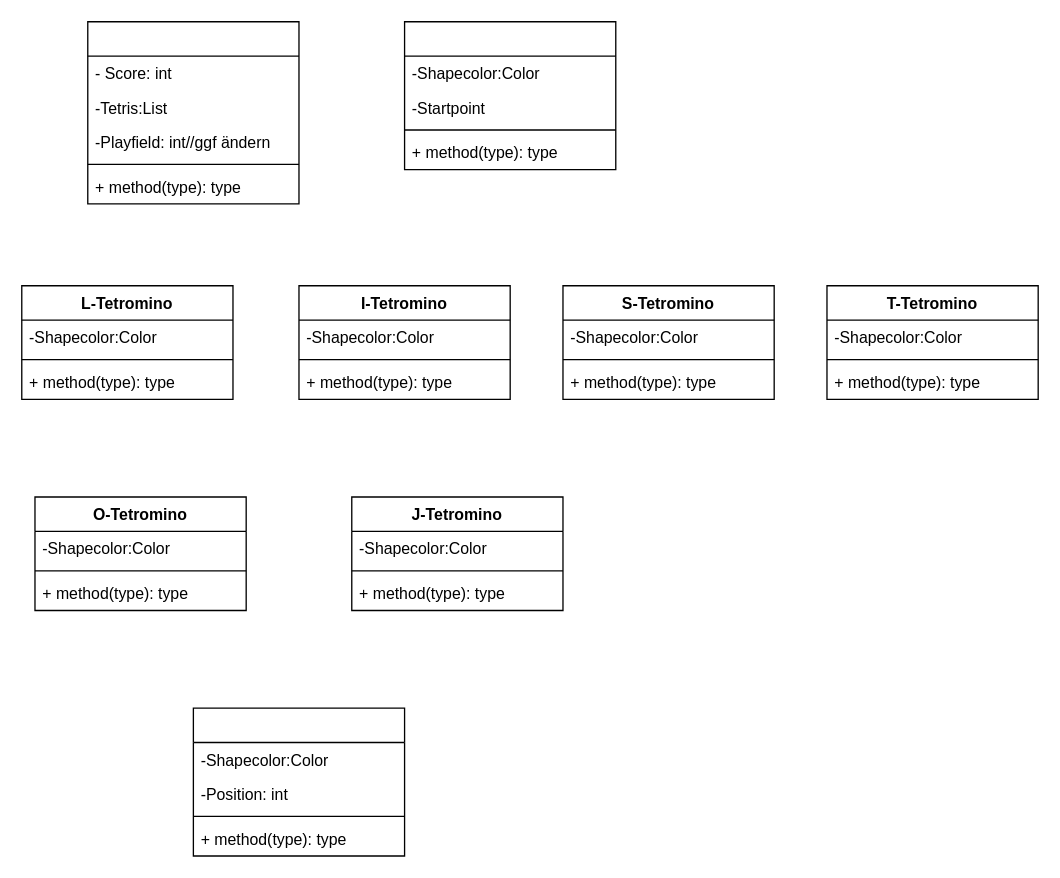
This 1060x878 diagram has some shape labels left out. The box of each missing label's shape, as (x1, y1, x2, y2) in pixels:
Game: (86, 20, 299, 204)
Shapes: (403, 20, 616, 170)
Tetris-Block: (192, 707, 405, 856)
